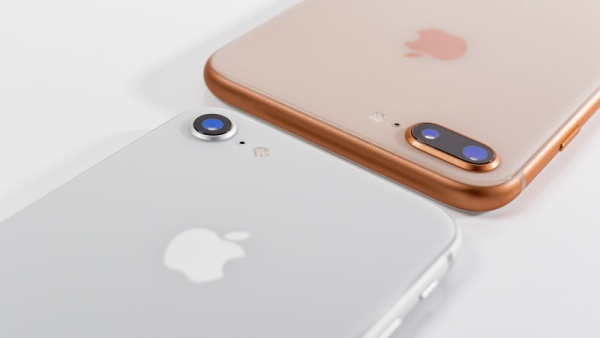apple: (156, 210, 270, 292), (390, 18, 489, 81)
